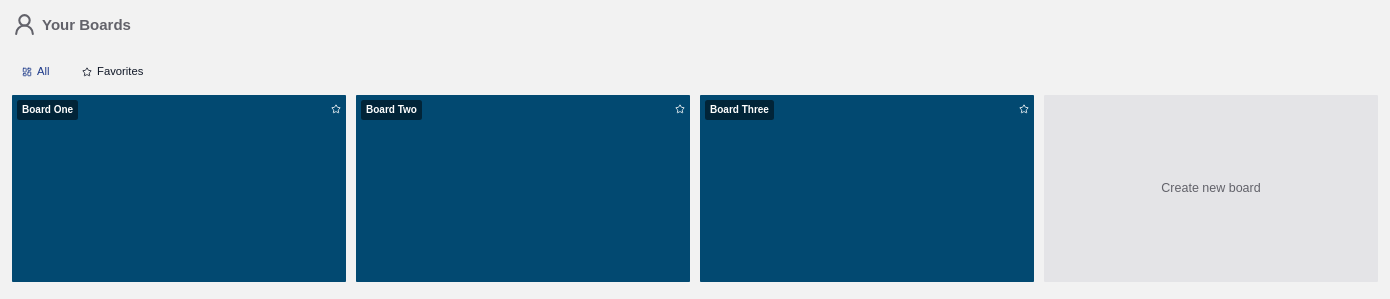
Test: BoardList › displays empty state message when no favorite boards exist
# Switch to favorites view
Click the button "Favorites" at (113, 72), box [72, 60, 153, 84]
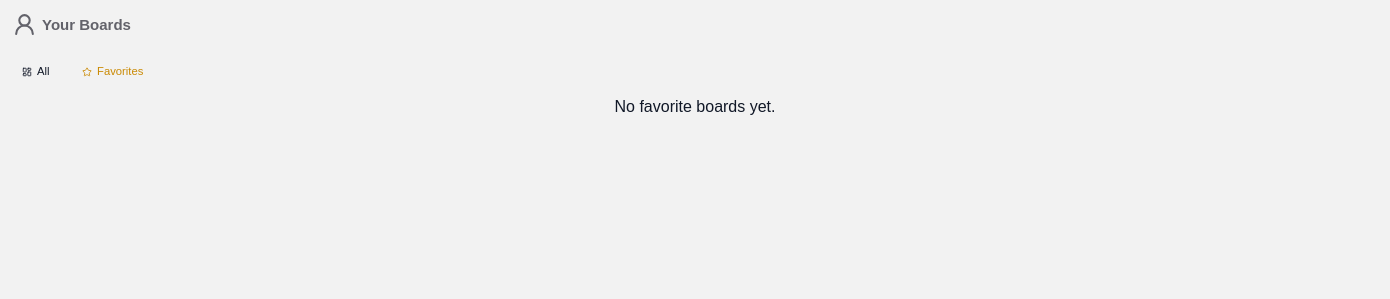
Result: the text "No favorite boards yet." is shown at [614, 98, 776, 114]
